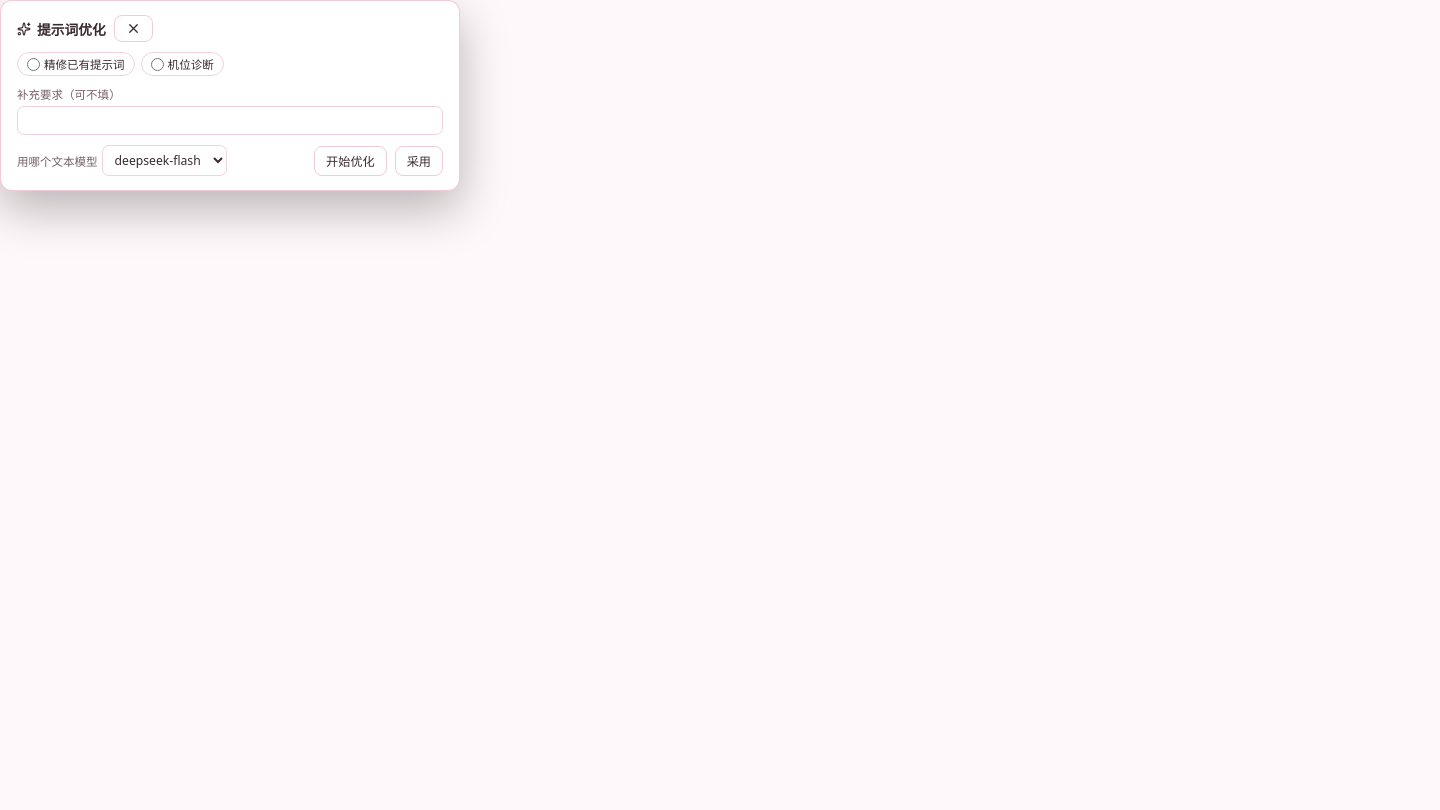
camera diagnosis in the prompt optimizer › shows the rule check as soon as the mode is chosen, before any rewrite is asked for
The width and height of the screenshot is (1440, 810).
Expected: the element "规则检查" is not shown
What coordinates should you click on to do the following:
click the radio button labelled "机位诊断"
I would click on:
 (157, 64)
Its box is top-left (151, 58), bottom-right (164, 70).
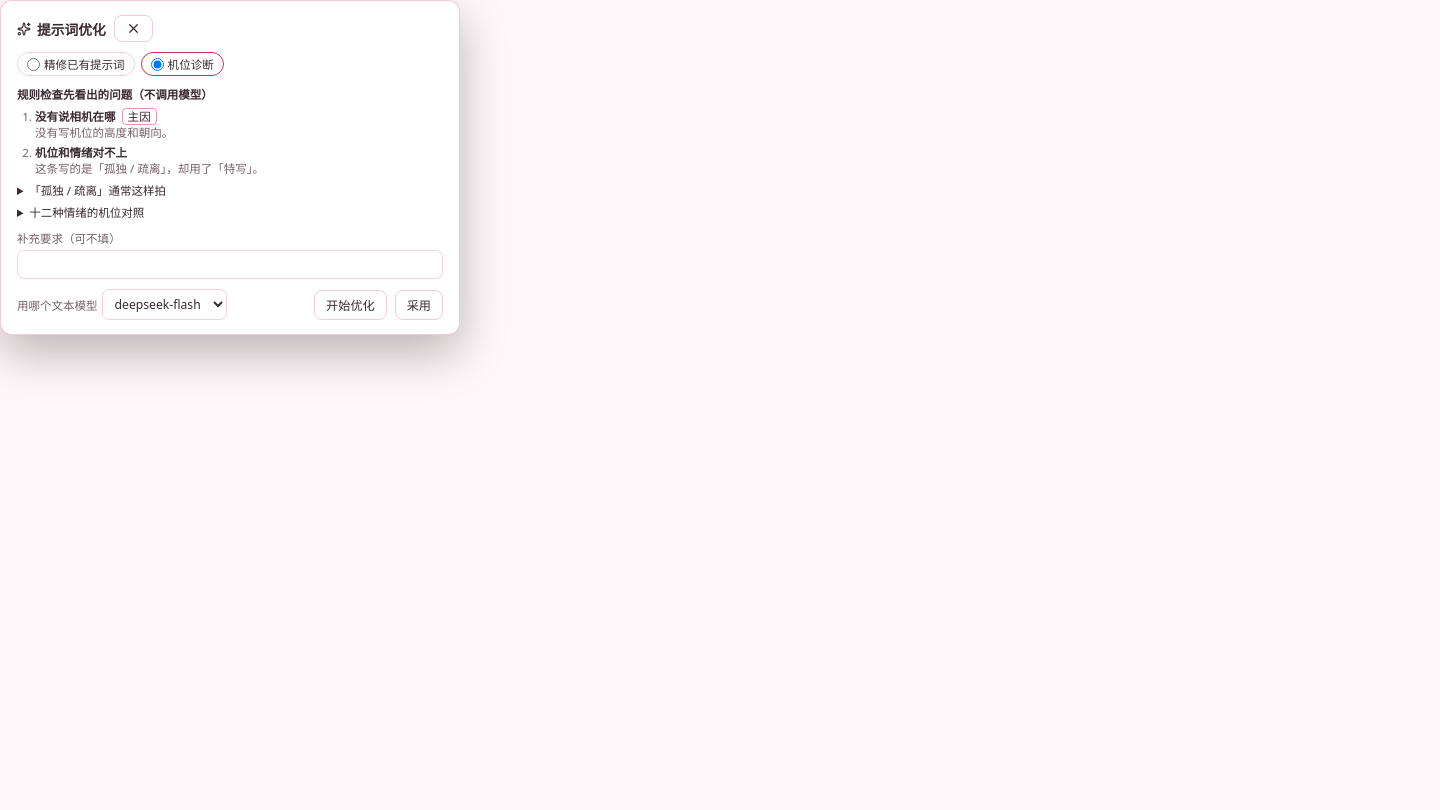
Now the 1st list item shows "没有说相机在哪", box top-left (35, 109), bottom-right (116, 124)
Now the 1st list item shows "主因", box top-left (128, 109), bottom-right (151, 124)
Now the list item "机位和情绪对不上 这条写的是「孤独 / 疏离」，却用了「特写」。" is shown, box top-left (35, 145), bottom-right (264, 176)
